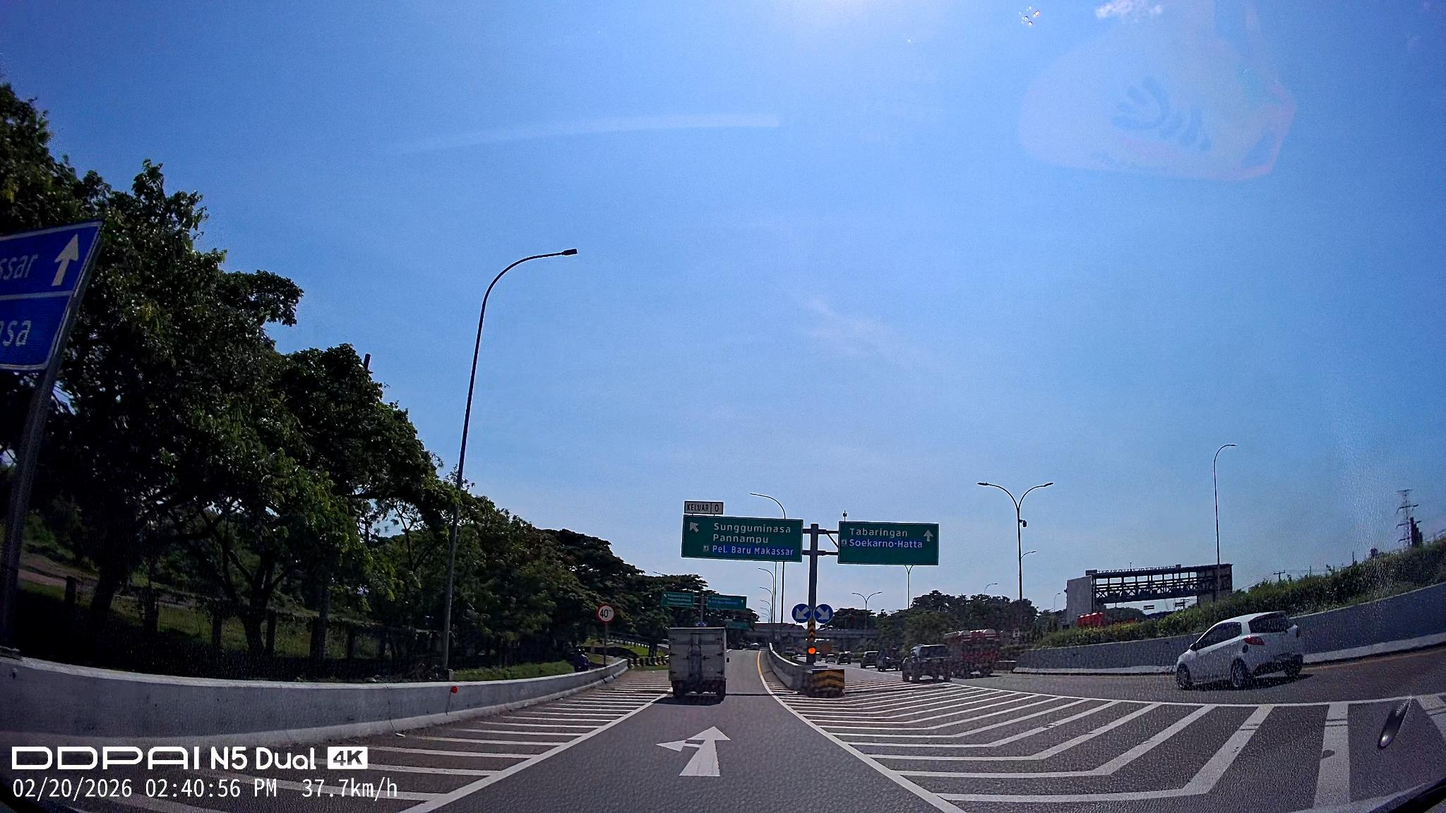rambu_teks: (681, 515, 803, 563), (837, 520, 939, 567)
